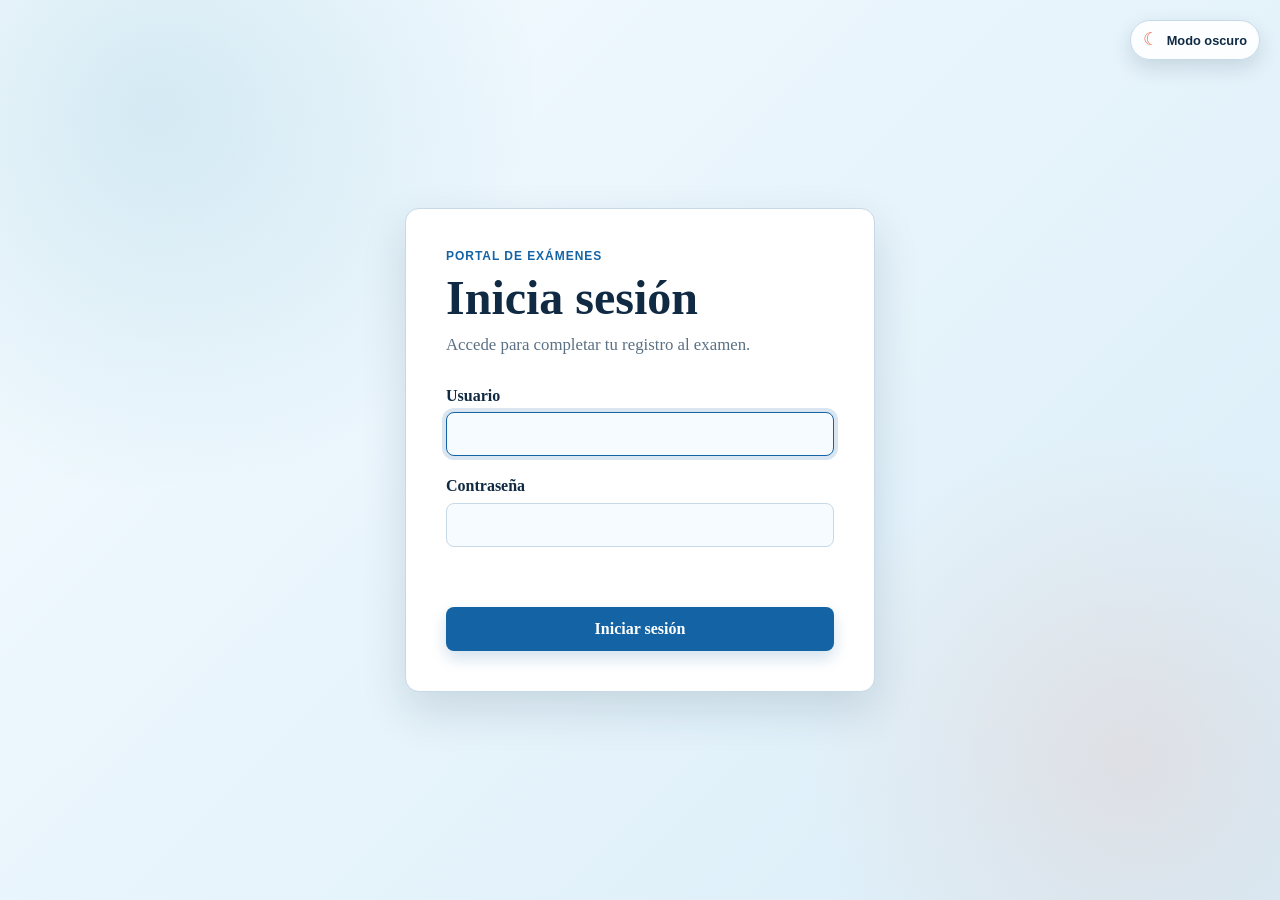
Test: App › permite iniciar sesión y navegar al registro
Type "examen" into the field labelled "Usuario" at (640, 434), box [446,412,834,456]
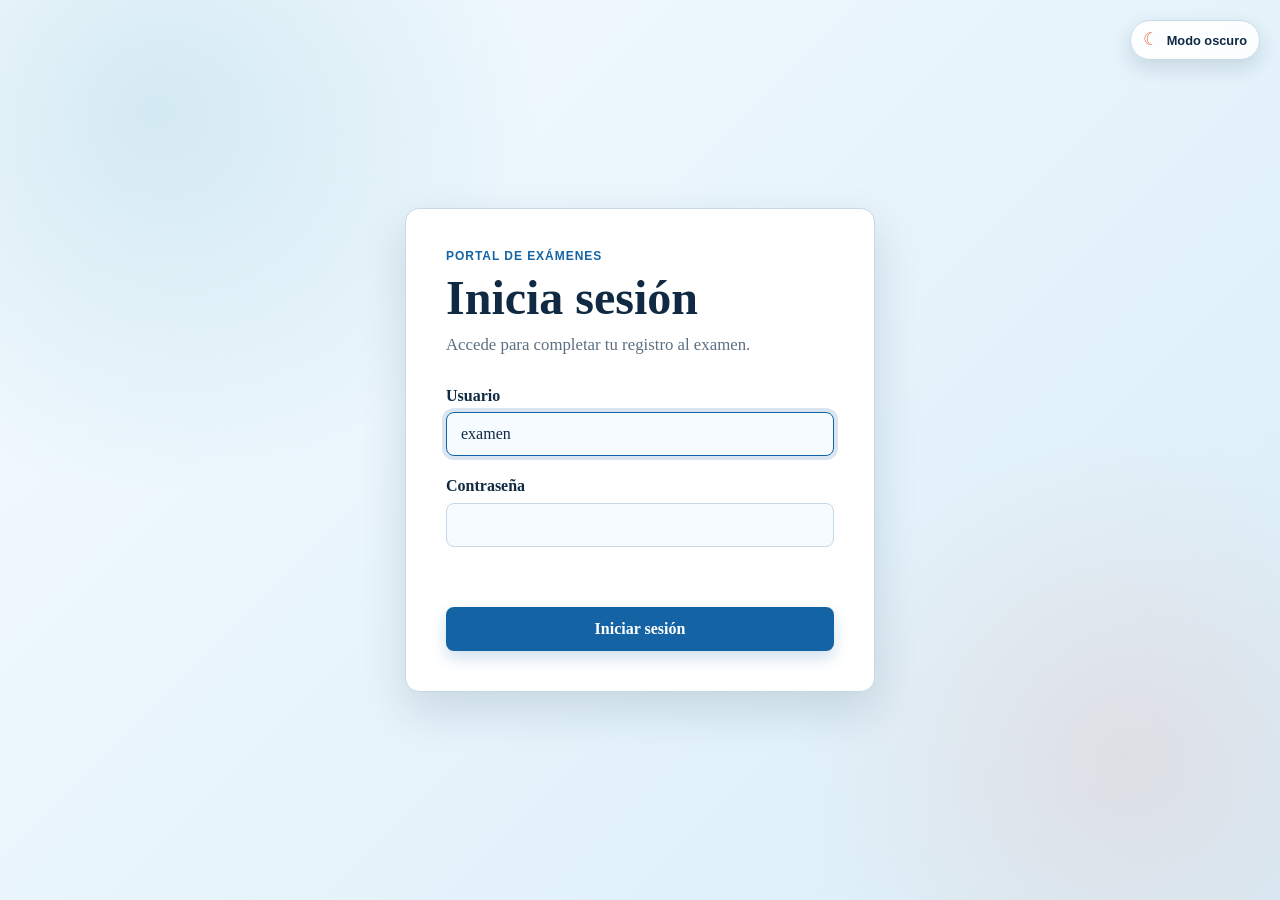
Type "Examen2026!" into the password field labelled "Contraseña" at (640, 525), box [446,503,834,547]
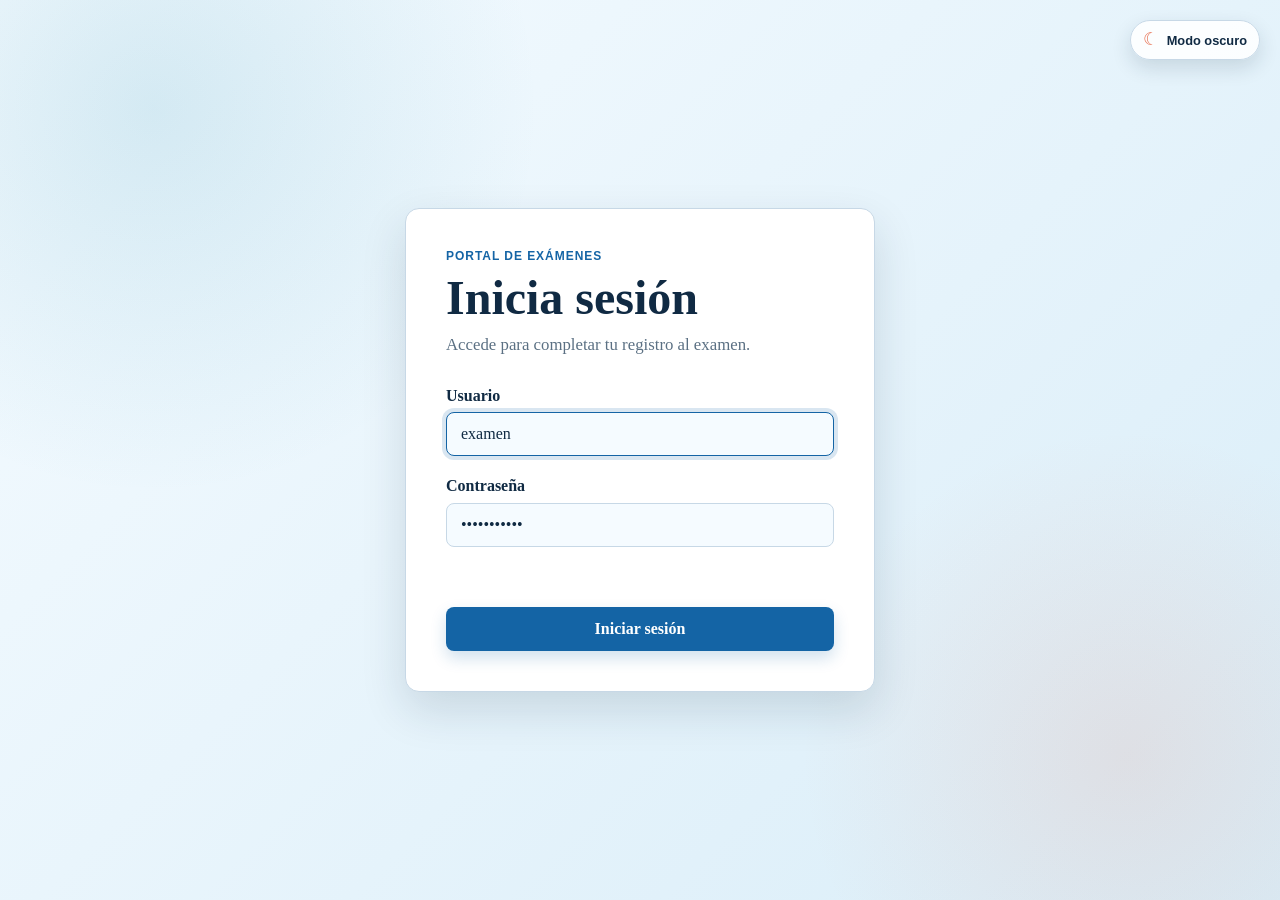
Click the button "Iniciar sesión" at (640, 629), box [446,607,834,651]
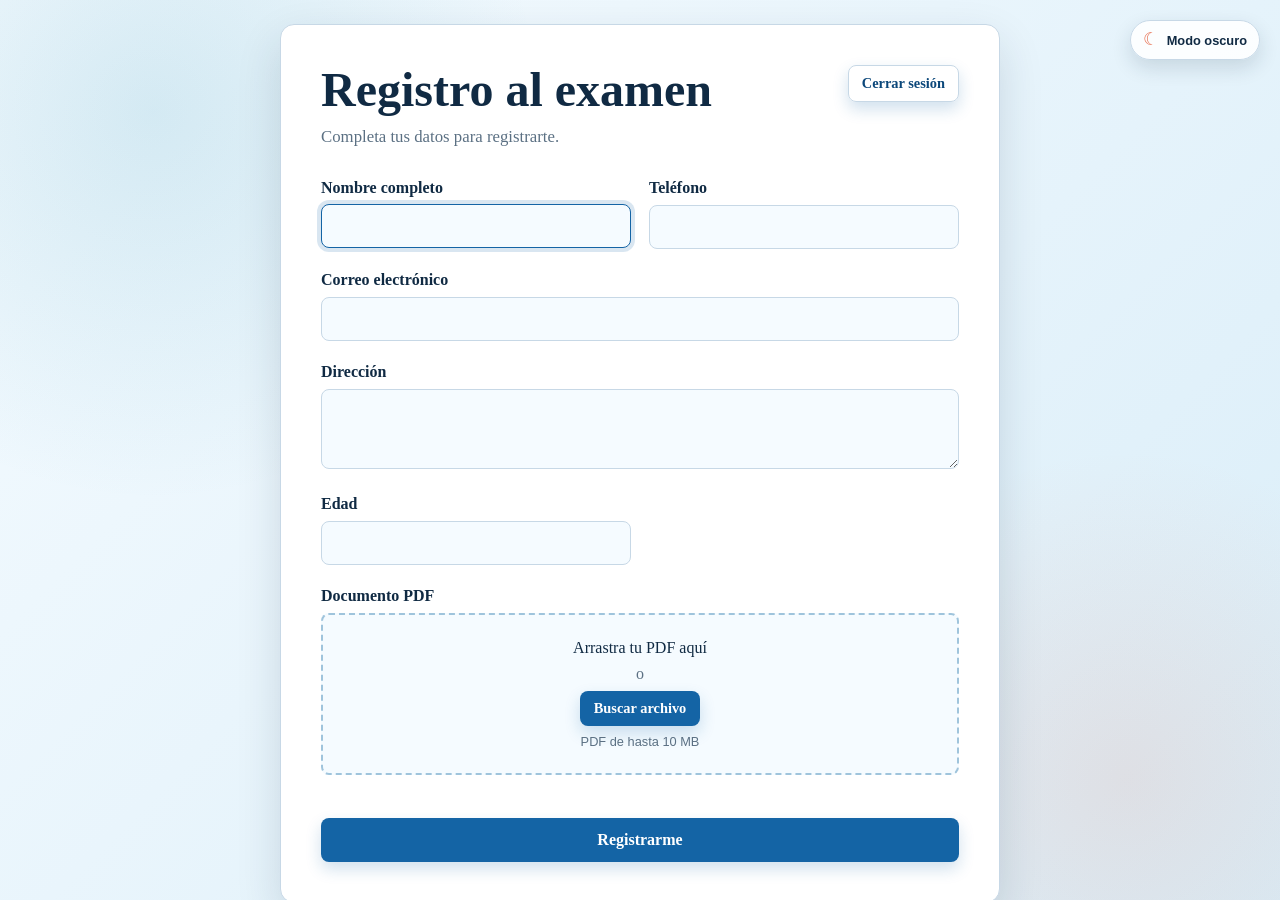
Now the heading "Registro al examen" is shown, box [321,65,712,115]
